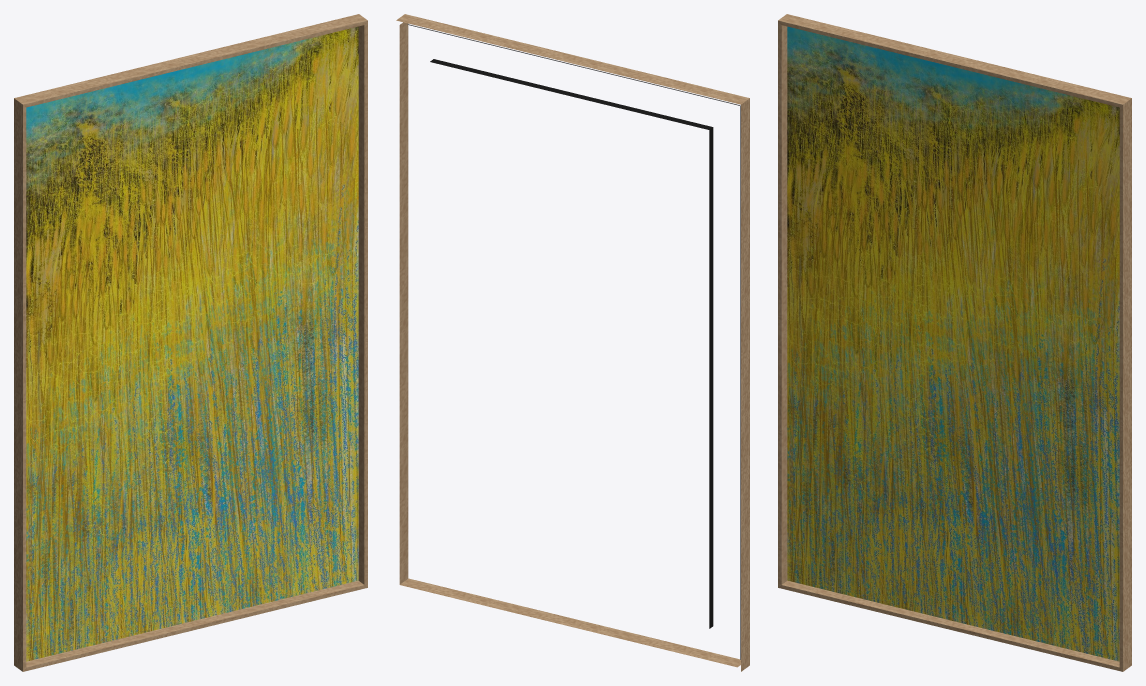
Rendered from os008_grand_caisse-chene.glb.
3 renders of one model, left to right at view 1: azimuth 30°, elevation 25°; view 2: azimuth 150°, elevation 25°; view 3: azimuth 330°, elevation 25°, orthographic.
Parts seen in each view (by area): view 1: os008_grand_caisse-chene; view 2: os008_grand_caisse-chene; view 3: os008_grand_caisse-chene.
Boxes of the visible parts, x1,y1,x2,y2 form: os008_grand_caisse-chene: (14,14,367,671); os008_grand_caisse-chene: (396,14,749,671); os008_grand_caisse-chene: (778,14,1131,671).
Bounding box in the file's own units: 0.7817 × 1.23 × 0.035.
4 materials, 2 textured.
